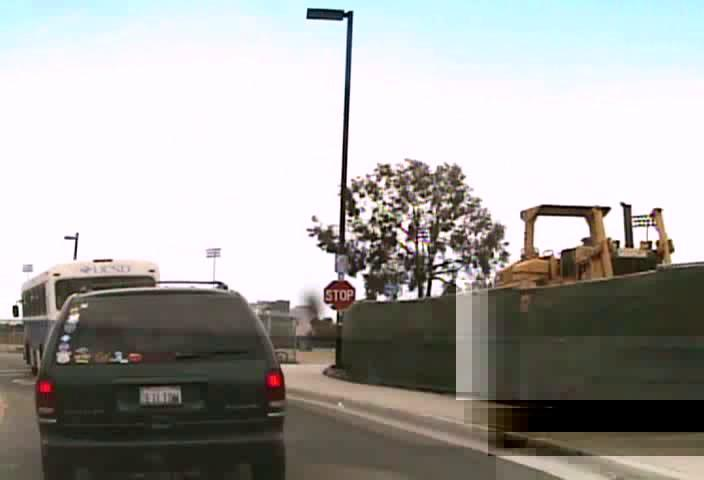stop: (323, 279, 356, 311)
